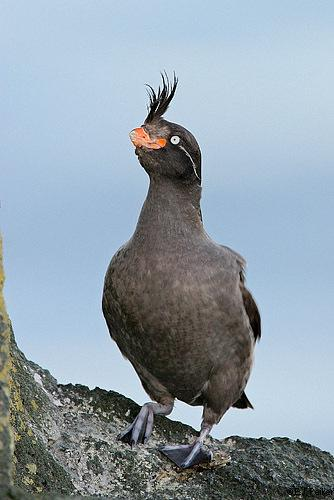005.Crested_Auklet: (102, 72, 264, 470)
